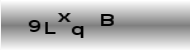9: (28, 18, 41, 33)
B: (100, 13, 115, 27)
L: (43, 21, 57, 35)
q: (71, 24, 84, 39)
x: (56, 11, 72, 23)
